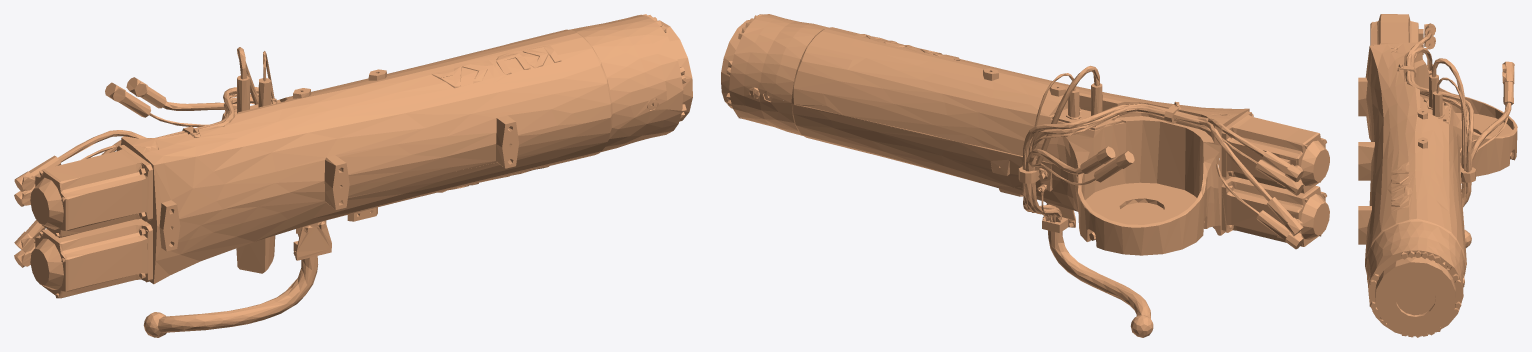
The picture shows the model from 3 angles, left to right: view 1: azimuth 30°, elevation 25°; view 2: azimuth 150°, elevation 25°; view 3: azimuth 270°, elevation 25°; orthographic projection. The views are drawn at different scales.
Parts seen in each view (by area): view 1: /Link_3/Link_3_002-mesh/0; view 2: /Link_3/Link_3_002-mesh/0; view 3: /Link_3/Link_3_002-mesh/0.
Boxes of the visible parts, box(x1,y1,x2,y2) form: /Link_3/Link_3_002-mesh/0: box(14, 14, 692, 337); /Link_3/Link_3_002-mesh/0: box(721, 14, 1329, 337); /Link_3/Link_3_002-mesh/0: box(1358, 14, 1517, 337).
Bounding box in the file's own units: 1.44 × 0.5991 × 0.3973.
